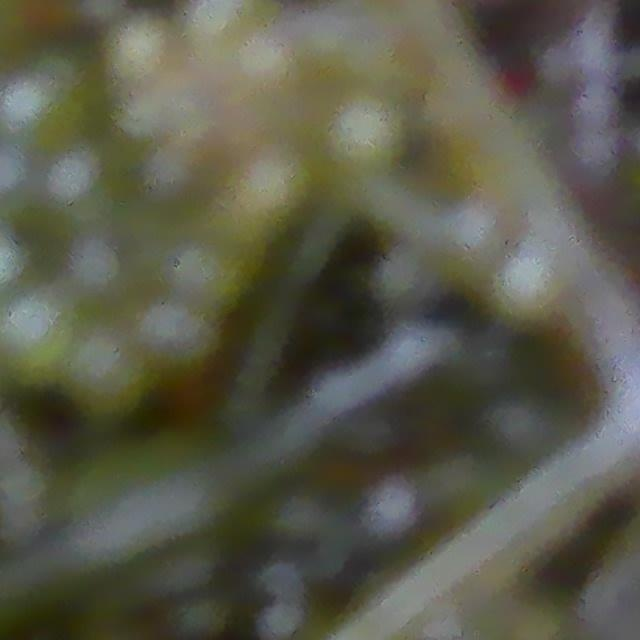SeaGrape: (63, 331, 153, 419), (0, 289, 77, 378), (324, 92, 406, 173), (135, 297, 220, 375), (166, 589, 232, 640), (67, 235, 123, 295), (43, 147, 99, 203)
